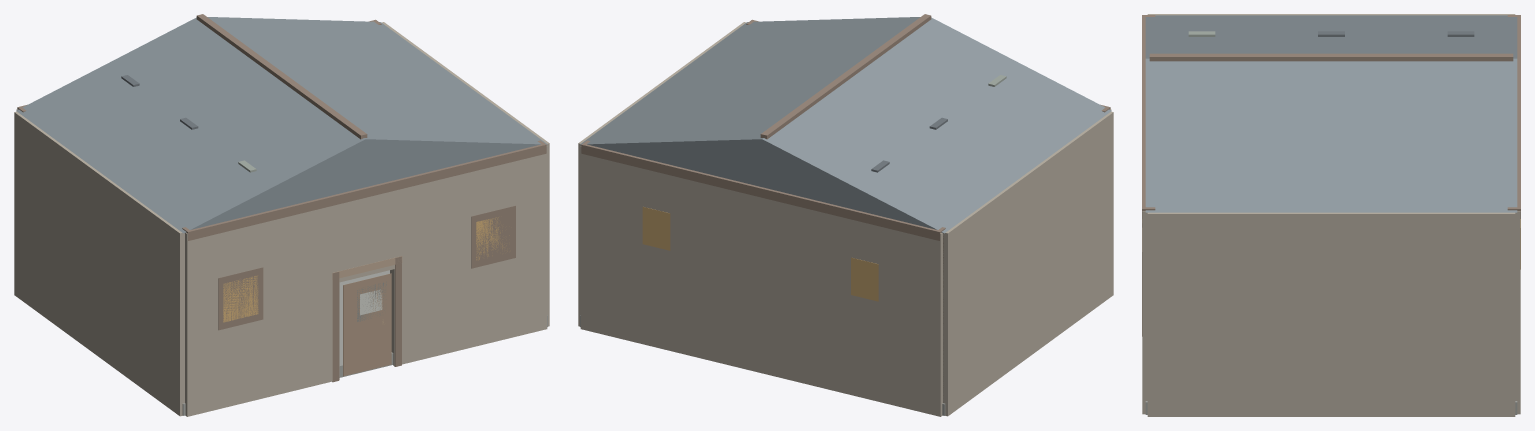
Rendered from bell_schoolhouse_inhabited.glb.
3 renders of one model, left to right at view 1: azimuth 30°, elevation 25°; view 2: azimuth 150°, elevation 25°; view 3: azimuth 270°, elevation 25°, orthographic. The views are drawn at different scales.
Parts seen in each view (by area): view 1: bell_schoolhouse_mat_01, bell_schoolhouse_mat_07, bell_schoolhouse_mat_02, bell_schoolhouse_mat_04, bell_schoolhouse_mat_06, bell_schoolhouse_mat_00; view 2: bell_schoolhouse_mat_01, bell_schoolhouse_mat_07, bell_schoolhouse_mat_02, bell_schoolhouse_mat_06; view 3: bell_schoolhouse_mat_01, bell_schoolhouse_mat_07, bell_schoolhouse_mat_02.
Boxes of the visible parts, x1=… form: bell_schoolhouse_mat_01: x1=14, y1=22, x2=549, y2=416; bell_schoolhouse_mat_07: x1=16, y1=17, x2=547, y2=233; bell_schoolhouse_mat_02: x1=17, y1=14, x2=546, y2=382; bell_schoolhouse_mat_04: x1=239, y1=273, x2=391, y2=376; bell_schoolhouse_mat_06: x1=223, y1=217, x2=509, y2=322; bell_schoolhouse_mat_00: x1=182, y1=270, x2=547, y2=415; bell_schoolhouse_mat_01: x1=578, y1=22, x2=1113, y2=416; bell_schoolhouse_mat_07: x1=580, y1=17, x2=1111, y2=233; bell_schoolhouse_mat_02: x1=581, y1=14, x2=1110, y2=402; bell_schoolhouse_mat_06: x1=642, y1=207, x2=878, y2=301; bell_schoolhouse_mat_01: x1=1142, y1=14, x2=1520, y2=416; bell_schoolhouse_mat_07: x1=1145, y1=15, x2=1517, y2=212; bell_schoolhouse_mat_02: x1=1142, y1=15, x2=1520, y2=336.
Size of the model in its own units: 4.97 by 3.04 by 3.98.
